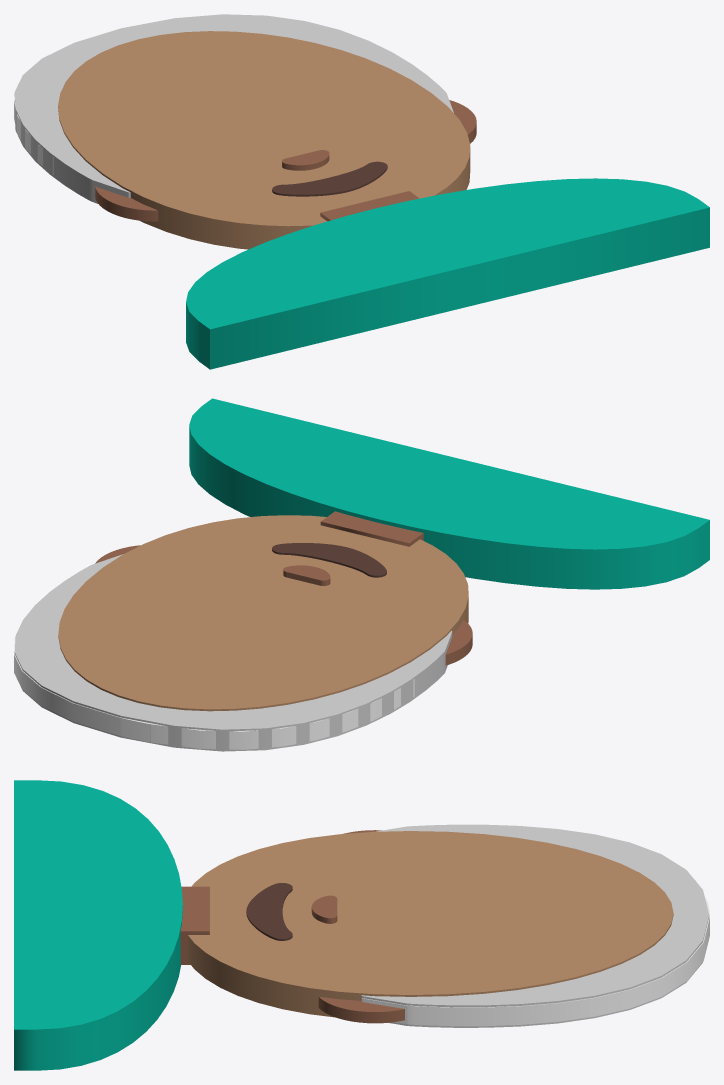
File: emoji_u1f468_1f3fd_200d_1f9b3.glb
The picture shows the model from 3 angles, top to bottom: view 1: azimuth 30°, elevation 25°; view 2: azimuth 150°, elevation 25°; view 3: azimuth 270°, elevation 25°; orthographic projection. The views are drawn at different scales.
Parts seen in each view (by area): view 1: emoji_u1f468_1f3fd_200d_1f9b3; view 2: emoji_u1f468_1f3fd_200d_1f9b3; view 3: emoji_u1f468_1f3fd_200d_1f9b3.
Part boxes in pixels (box(x1,y1,x2,y2)): emoji_u1f468_1f3fd_200d_1f9b3: box(14, 14, 709, 369); emoji_u1f468_1f3fd_200d_1f9b3: box(14, 398, 709, 751); emoji_u1f468_1f3fd_200d_1f9b3: box(14, 780, 709, 1070).
Size of the model in its own units: 0.0286 by 0.0022 by 0.0337.
